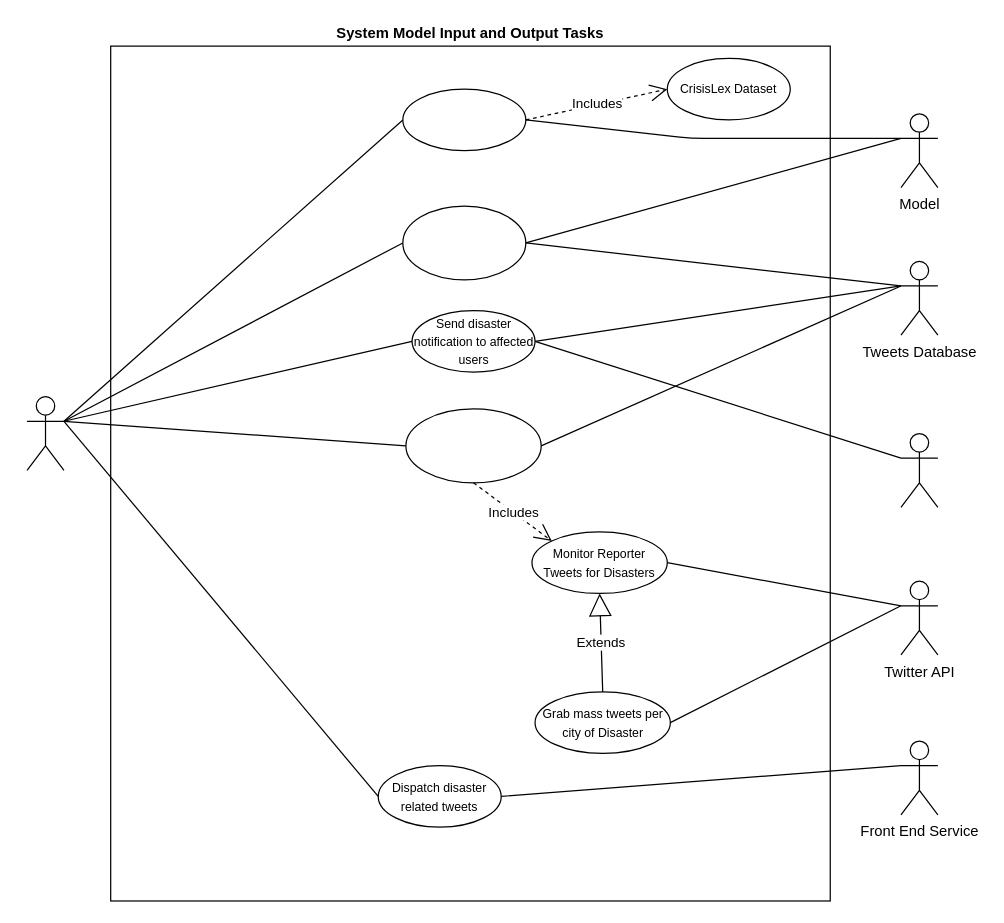
The diagram is 1004 pixels wide and 923 high, and some of its shapes have lost their labels. Here are the shapes that lost their labels. From the top down, the box of each, then its label:
(402, 88, 526, 151): Train Model
(402, 205, 526, 280): Predict Tweet for Disaster and Confidence Level
(26, 395, 64, 470): System
(405, 408, 541, 483): Insert Tweets into the Database
(900, 432, 938, 507): Twilio SMS Service
